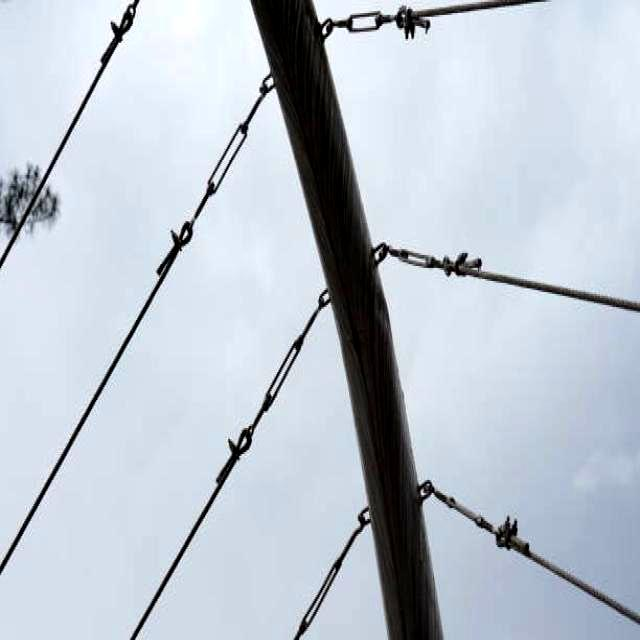Broken Pole: (234, 0, 453, 637)
